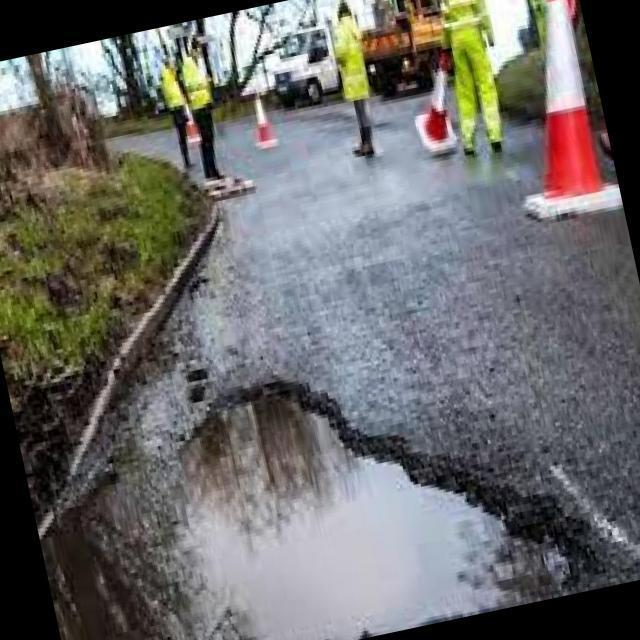Pothole: (135, 325, 594, 640)
